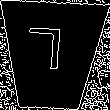L_S: (31, 30, 72, 82)
